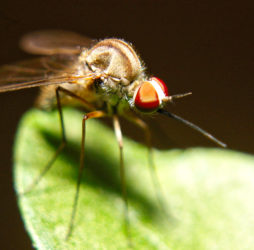green bottles flies: (6, 12, 212, 221)
